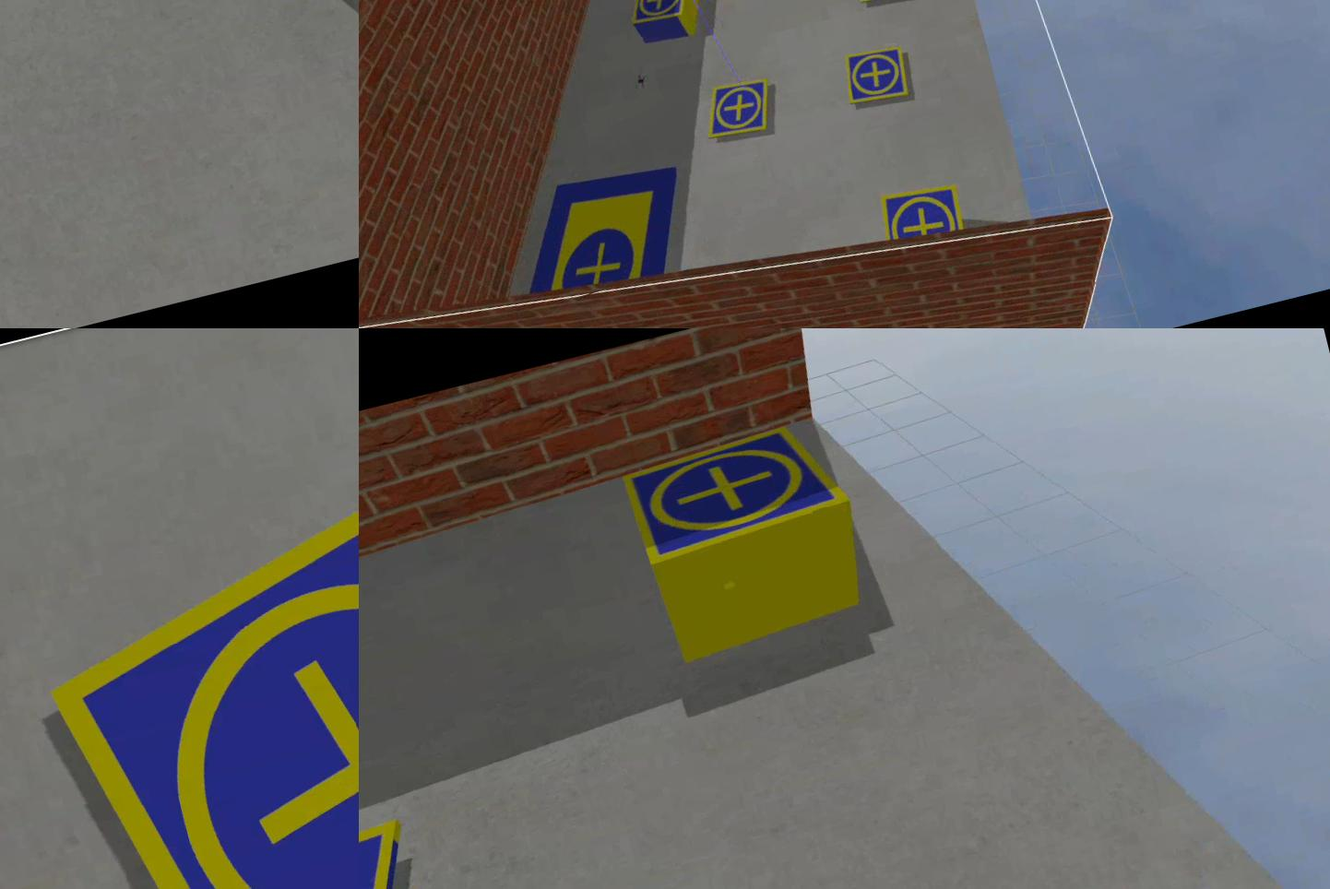large_base: (508, 156, 701, 308)
small_base: (18, 418, 360, 889), (620, 417, 856, 574), (876, 177, 968, 255), (698, 76, 781, 147), (839, 41, 917, 112), (626, 1, 698, 32)
